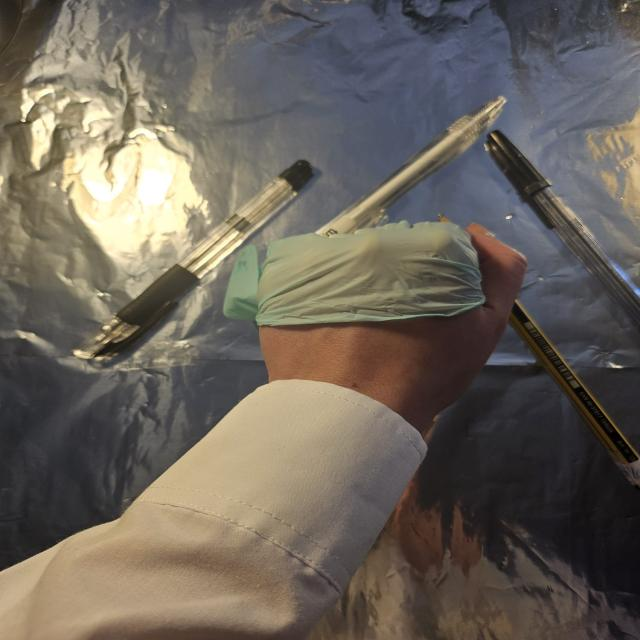glove_partial: (220, 220, 525, 419)
